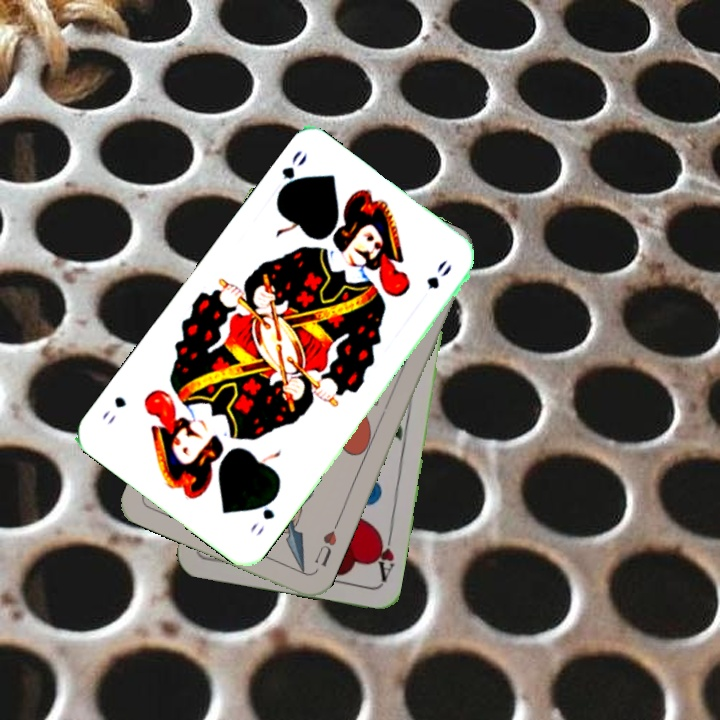GO: (272, 146, 310, 201), (246, 490, 280, 539)
HA: (370, 526, 397, 585)
HU: (310, 518, 342, 569)
